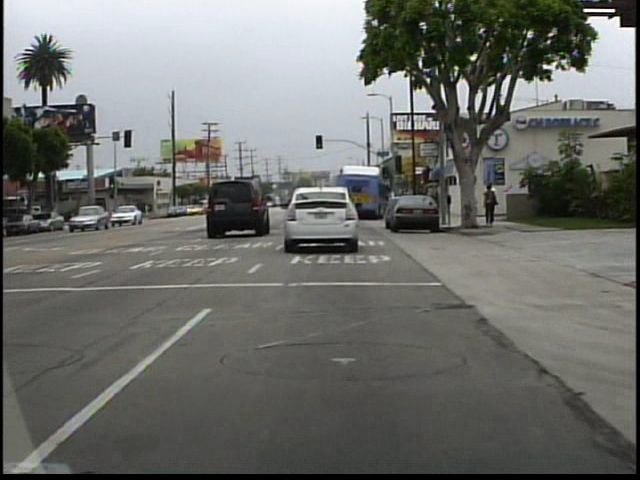person: (479, 182, 497, 227), (485, 182, 499, 224), (142, 198, 153, 220)
